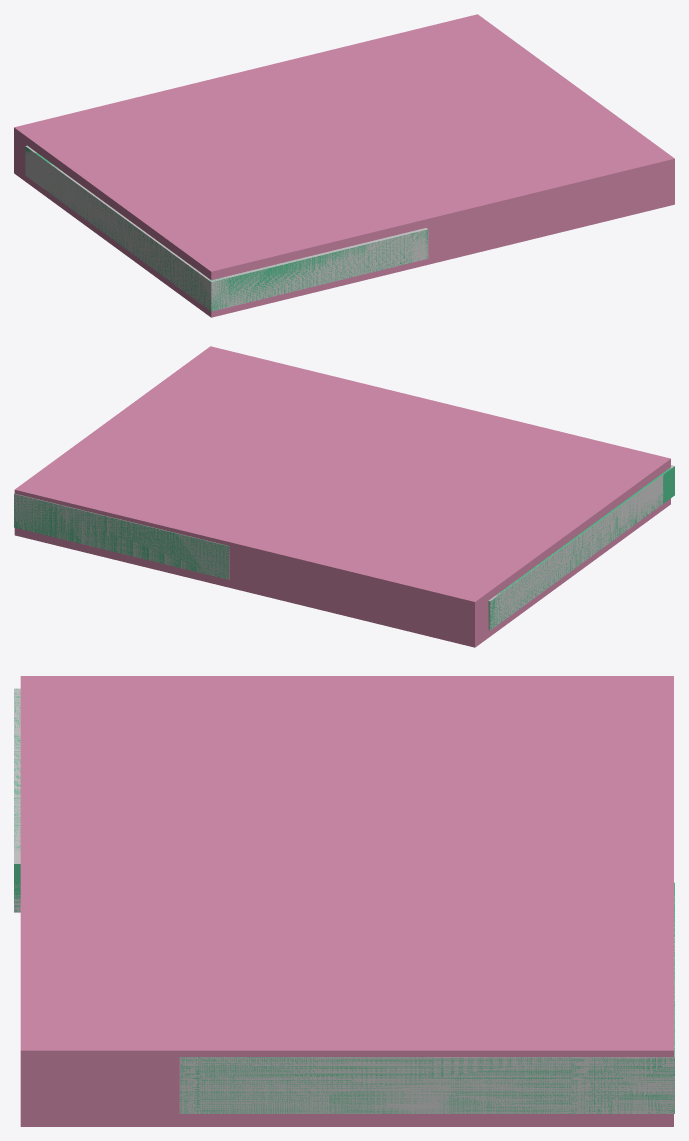
The model's file is port_base_01_b.dae.
The picture shows the model from 3 angles, top to bottom: view 1: azimuth 30°, elevation 25°; view 2: azimuth 150°, elevation 25°; view 3: azimuth 270°, elevation 25°; orthographic projection. The views are drawn at different scales.
Visible parts, largest first — view 1: Untitled, tree_oak_bush_a250, Colmesh-1; view 2: Untitled, tree_oak_bush_a250, Colmesh-1; view 3: Untitled, tree_oak_bush_a250, Colmesh-1.
Part boxes in pixels (left/top/right/bottom): Untitled: left=14, top=14, right=674, bottom=317; tree_oak_bush_a250: left=25, top=145, right=428, bottom=311; Colmesh-1: left=25, top=146, right=427, bottom=311; Untitled: left=14, top=346, right=670, bottom=647; tree_oak_bush_a250: left=14, top=465, right=674, bottom=630; Colmesh-1: left=14, top=466, right=674, bottom=629; Untitled: left=20, top=676, right=673, bottom=1126; tree_oak_bush_a250: left=14, top=688, right=674, bottom=1113; Colmesh-1: left=14, top=688, right=674, bottom=1113.
Bounding box in the file's own units: 430 × 319 × 40.55.
